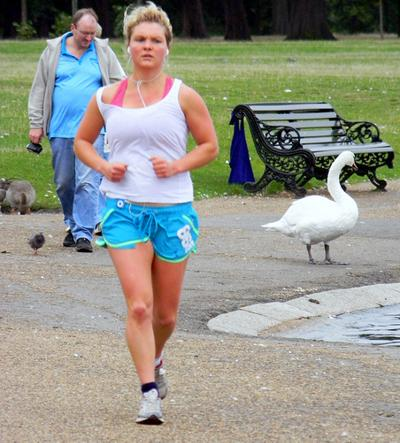person: (72, 6, 219, 427)
